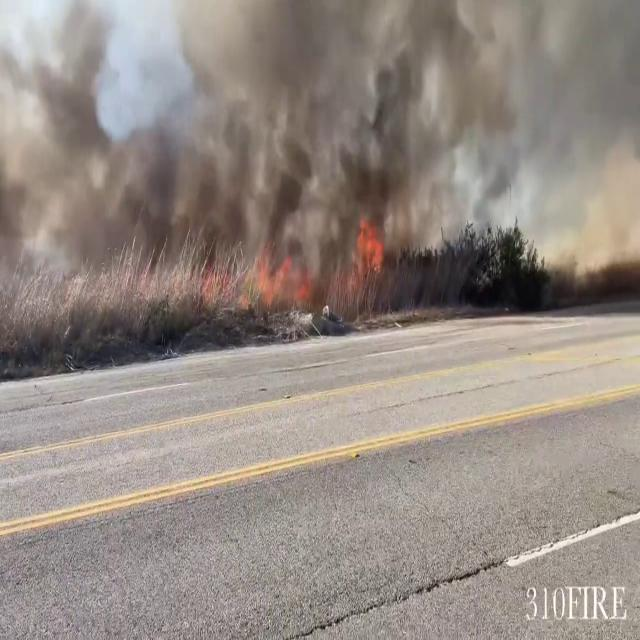Fire: (348, 200, 390, 288)
Smoke: (0, 0, 640, 315)
